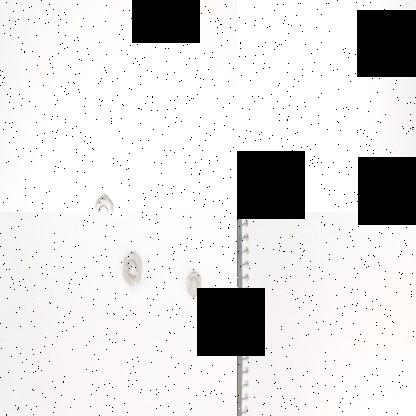NUTS: (116, 247, 146, 294), (202, 305, 228, 351), (182, 267, 204, 299), (90, 187, 114, 212), (255, 196, 287, 212)
